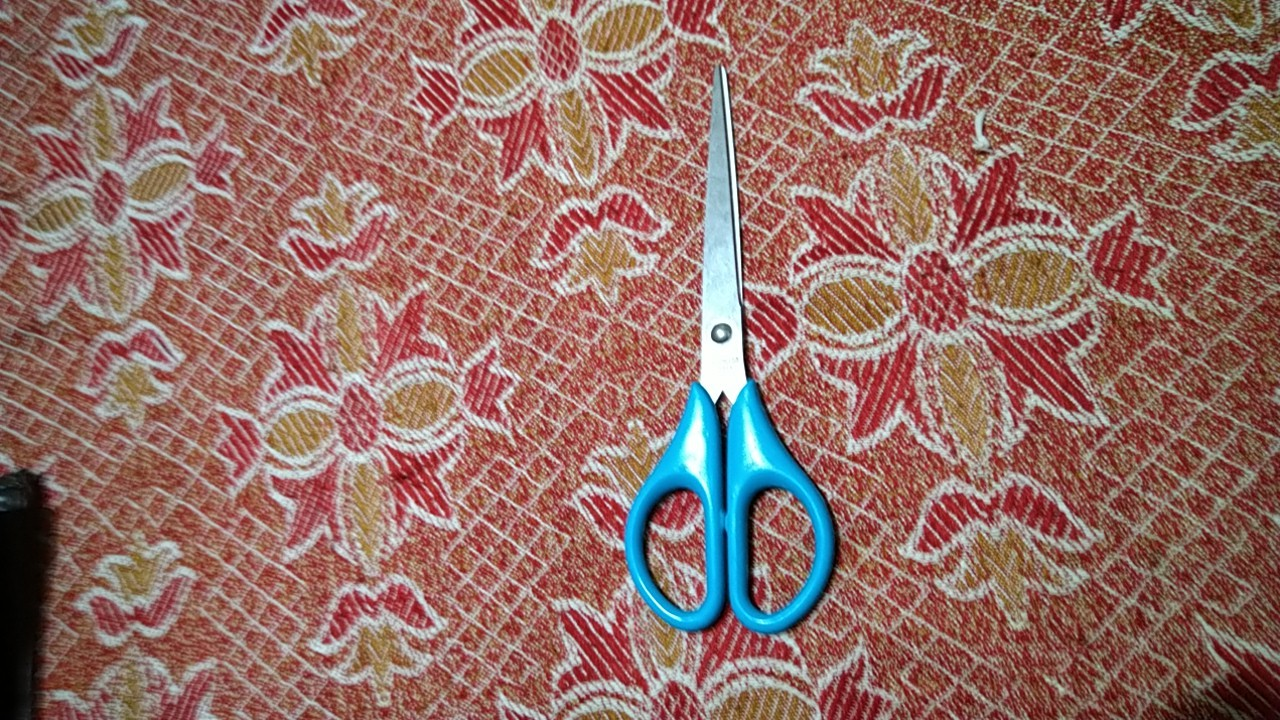scissor: (604, 52, 880, 654)
